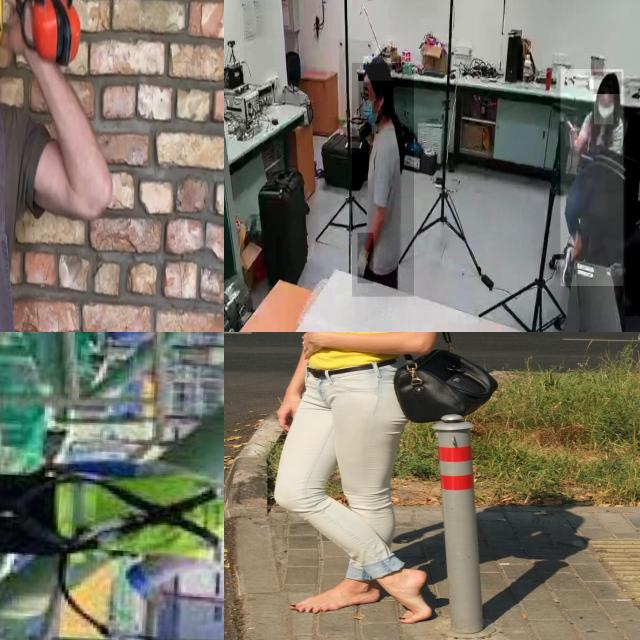Barefoots: (288, 585, 381, 613), (398, 568, 433, 624)
Harness: (7, 464, 224, 560)
face_mask: (358, 82, 379, 124), (594, 94, 614, 124)
hand_glove: (358, 233, 374, 284)
hand_noglove: (566, 116, 578, 148)
head_nohelmet: (363, 56, 393, 82), (594, 72, 622, 95)
person: (352, 63, 414, 297), (560, 69, 624, 287), (625, 86, 640, 317)
